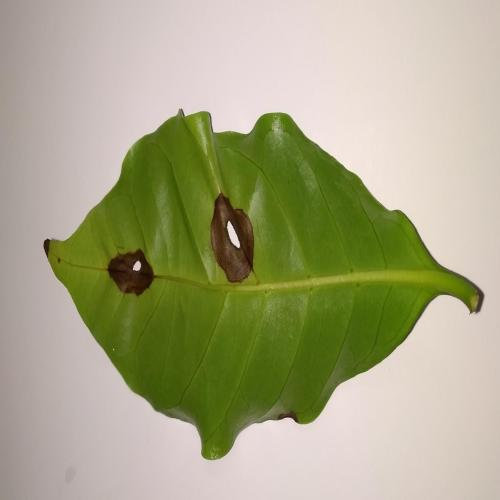miner: (211, 193, 254, 282)
